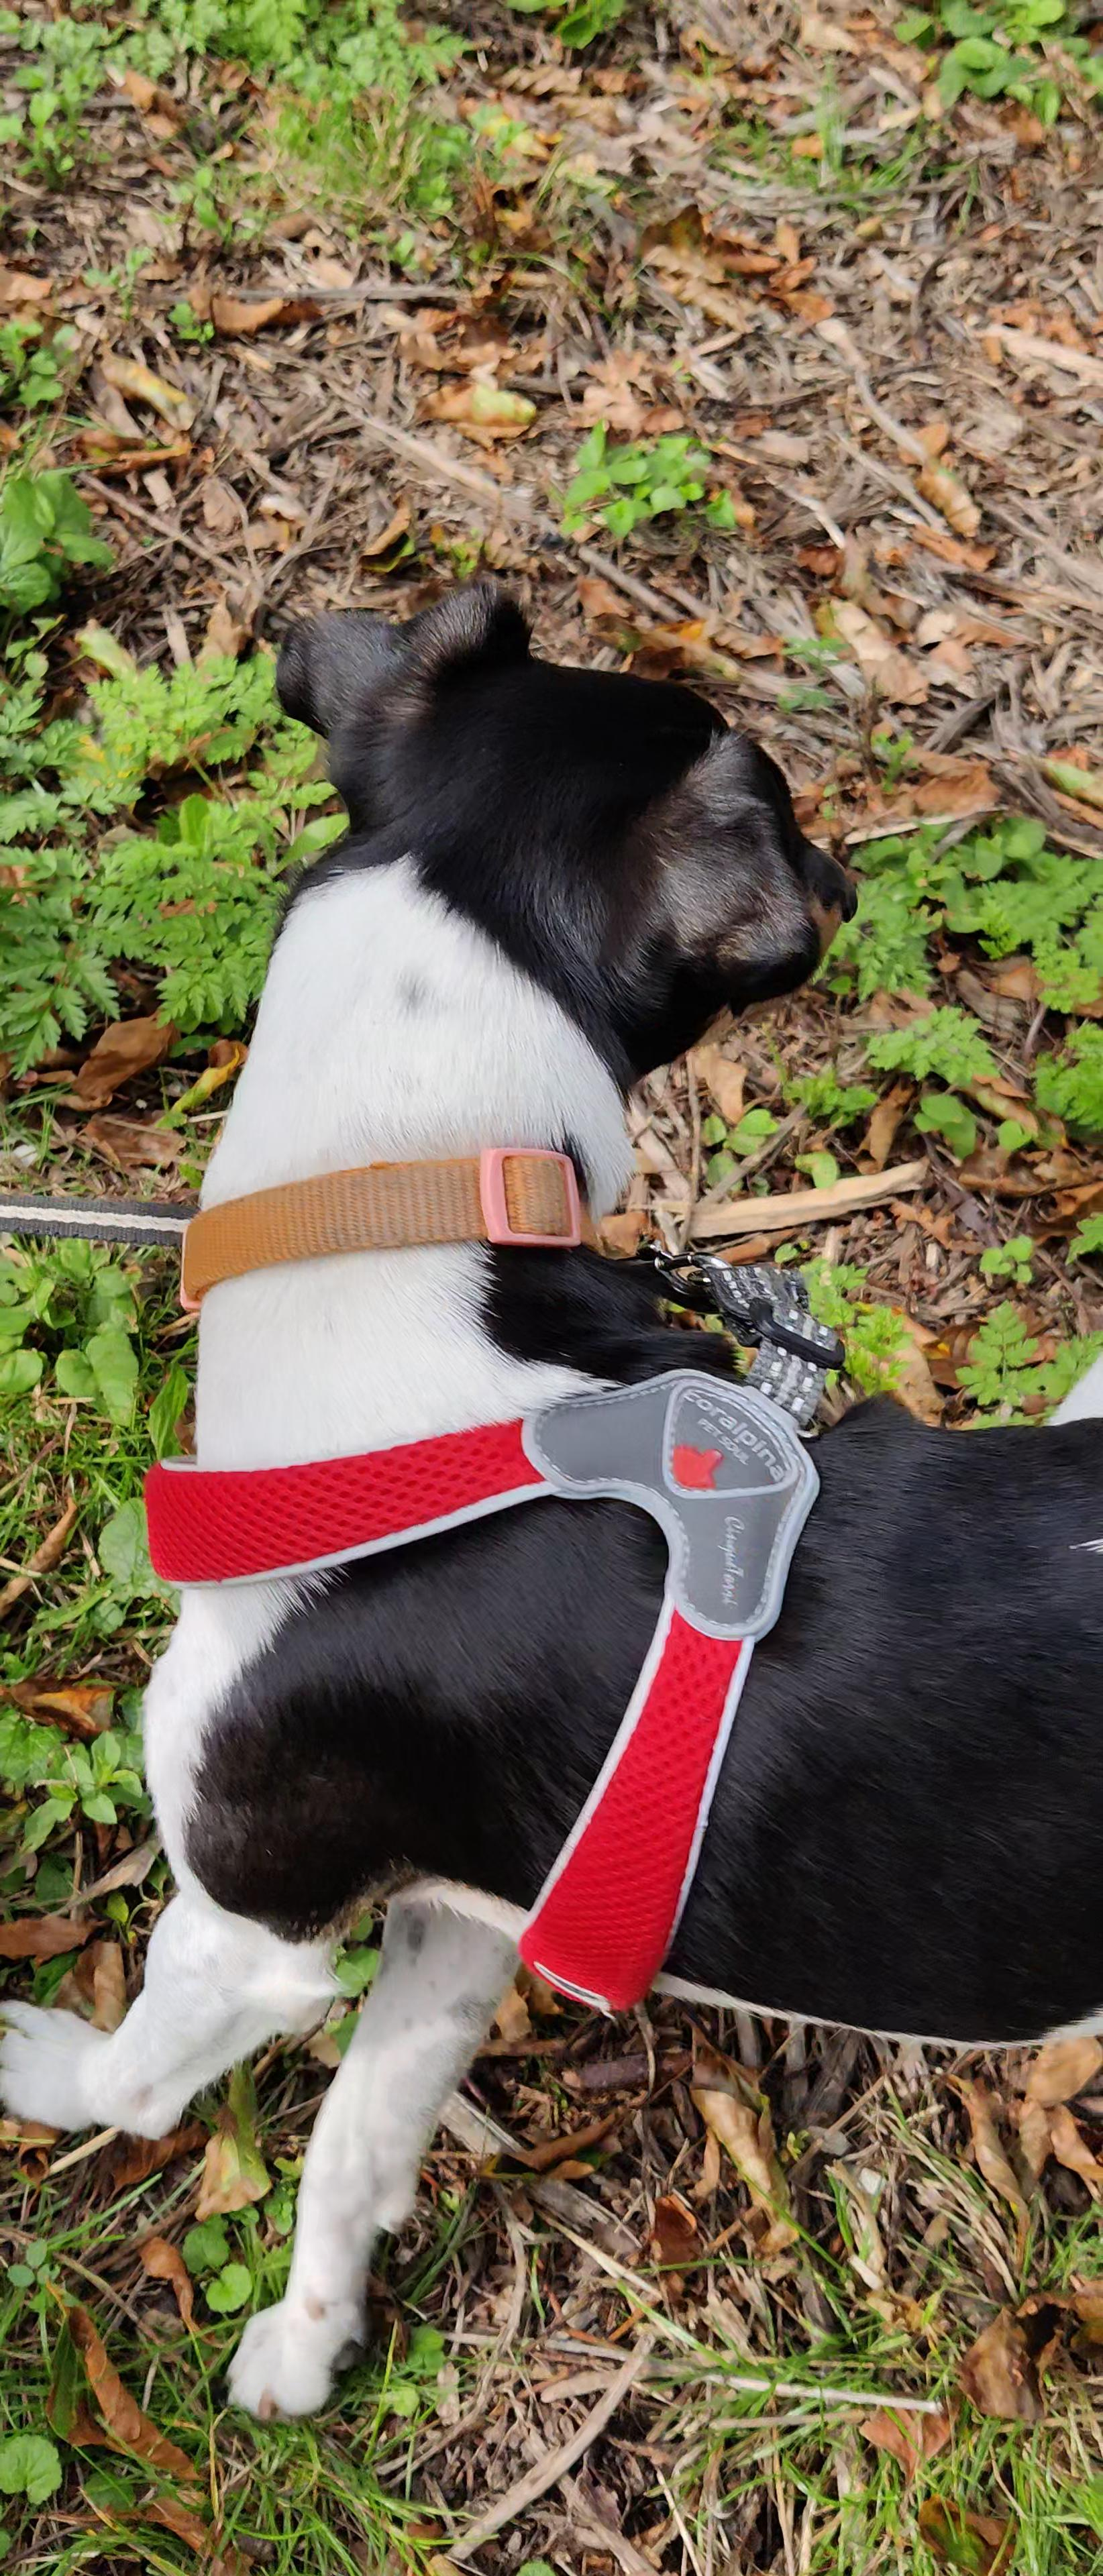Dog: (0, 570, 1103, 2430)
